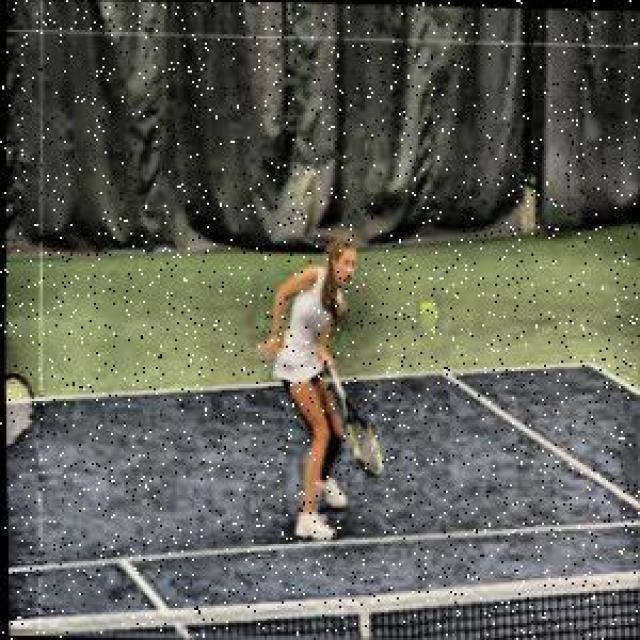tennis-ball: (416, 302, 433, 324)
